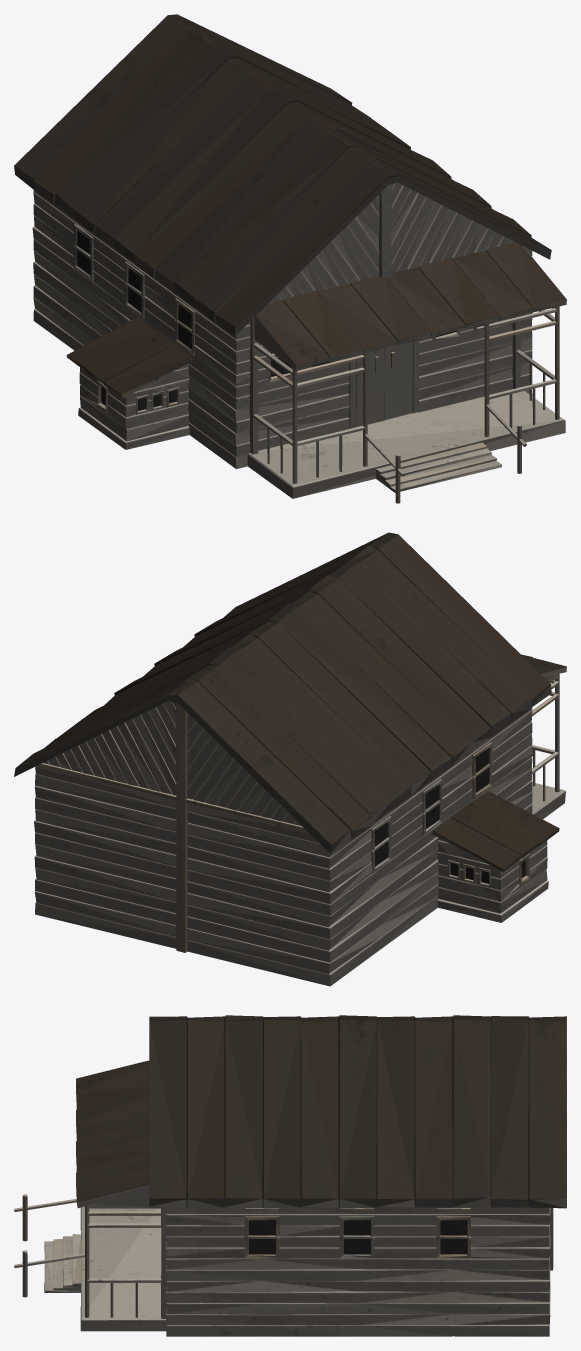
The model's file is Ranger-station-low-poly.glb.
3 renders of one model, top to bottom at view 1: azimuth 30°, elevation 25°; view 2: azimuth 150°, elevation 25°; view 3: azimuth 270°, elevation 25°, orthographic. The views are drawn at different scales.
Parts seen in each view (by area): view 1: ranger_station.1; view 2: ranger_station.1; view 3: ranger_station.1.
Boxes of the visible parts, box(x1,y1,x2,y2) form: ranger_station.1: box(14, 14, 566, 503); ranger_station.1: box(14, 532, 566, 986); ranger_station.1: box(14, 1015, 566, 1336).
Bounding box in the file's own units: 1.08 × 0.7193 × 1.44.
Materials: 2 (2 with a texture image).
